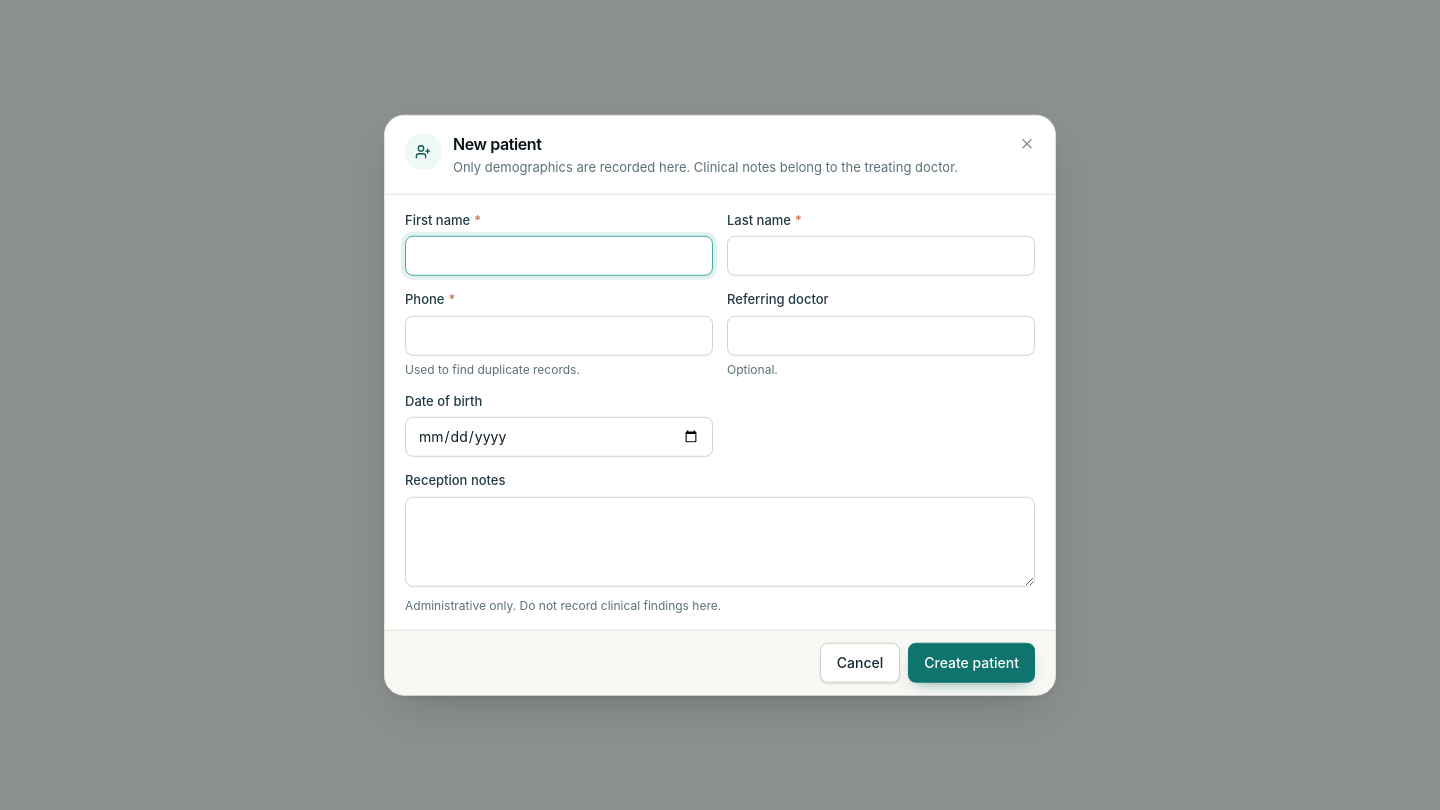
it: PatientDialog — create, validate, duplicates, update › shows the duplicate-phone warning and can acknowledge it
The width and height of the screenshot is (1440, 810).
Later steps or results of the test are not shown.
Step 1. Type "Ada" into the field labelled "First name *" → x=559, y=256, box x1=405 y1=236 x2=713 y2=276
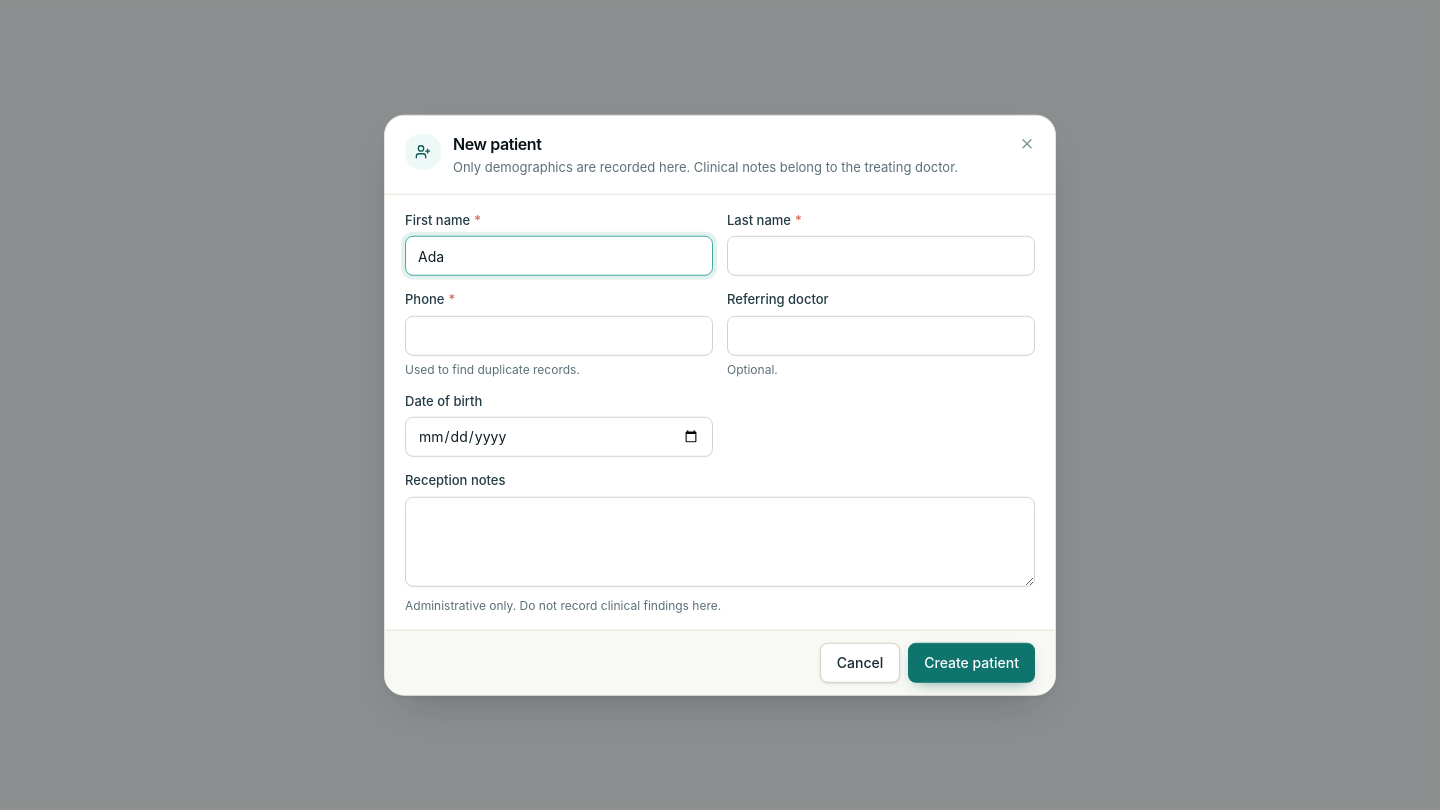
Step 2. Type "Lovelace" into the field labelled "Last name *" → x=881, y=256, box x1=727 y1=236 x2=1035 y2=276
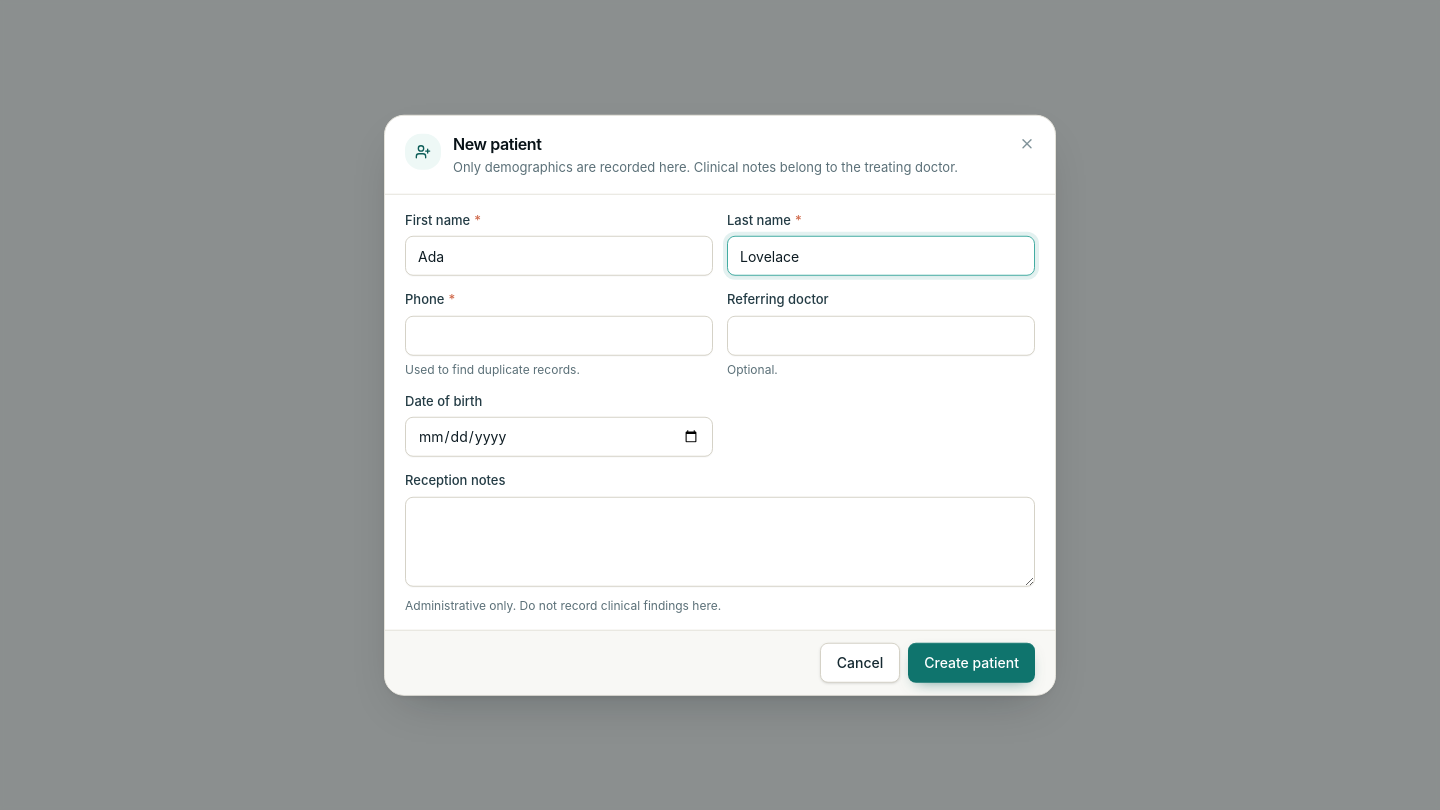
Step 3. Type "5550102" into the field labelled "Phone *" → x=559, y=335, box x1=405 y1=315 x2=713 y2=355
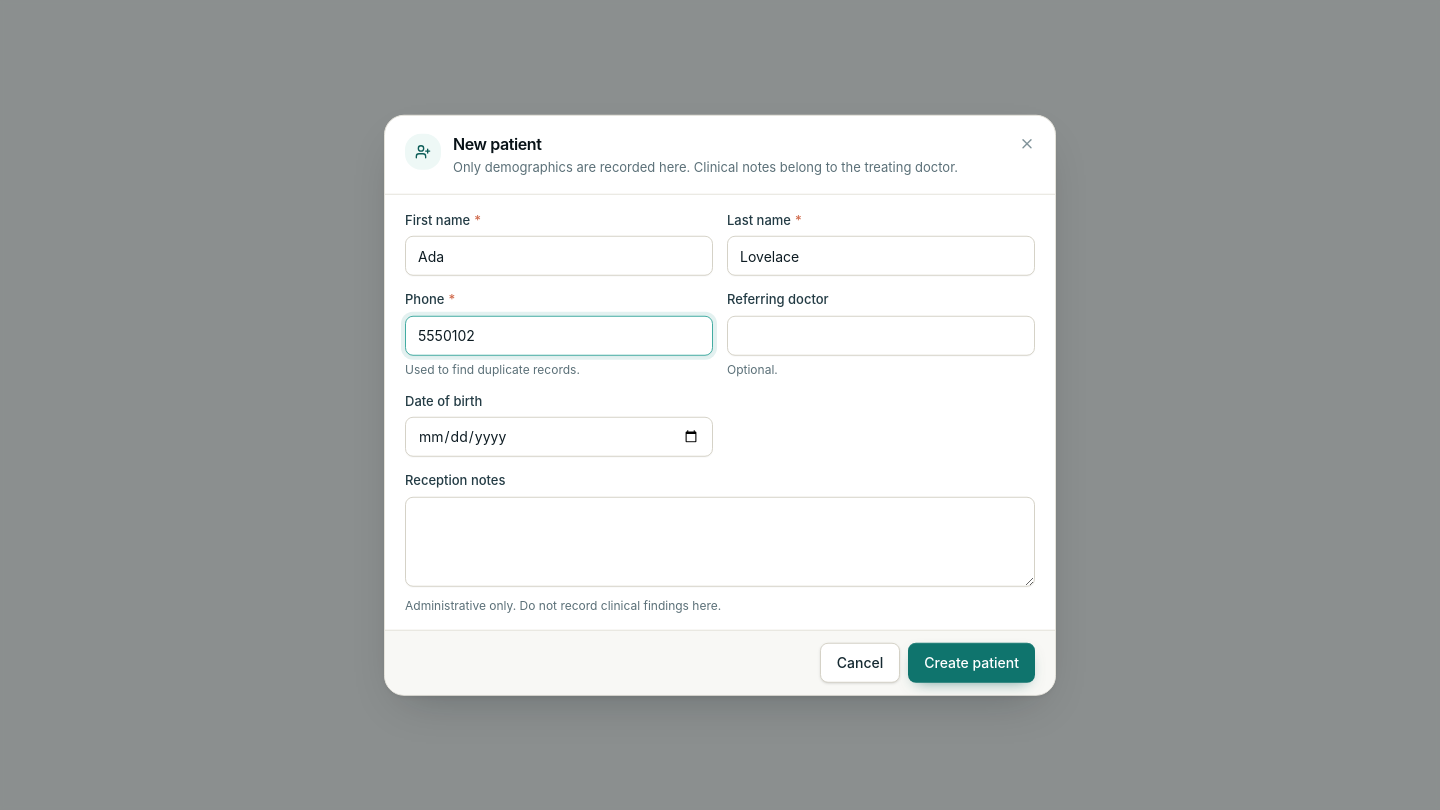
Step 4. Click the button "Create patient" → x=972, y=662, box x1=908 y1=642 x2=1035 y2=682
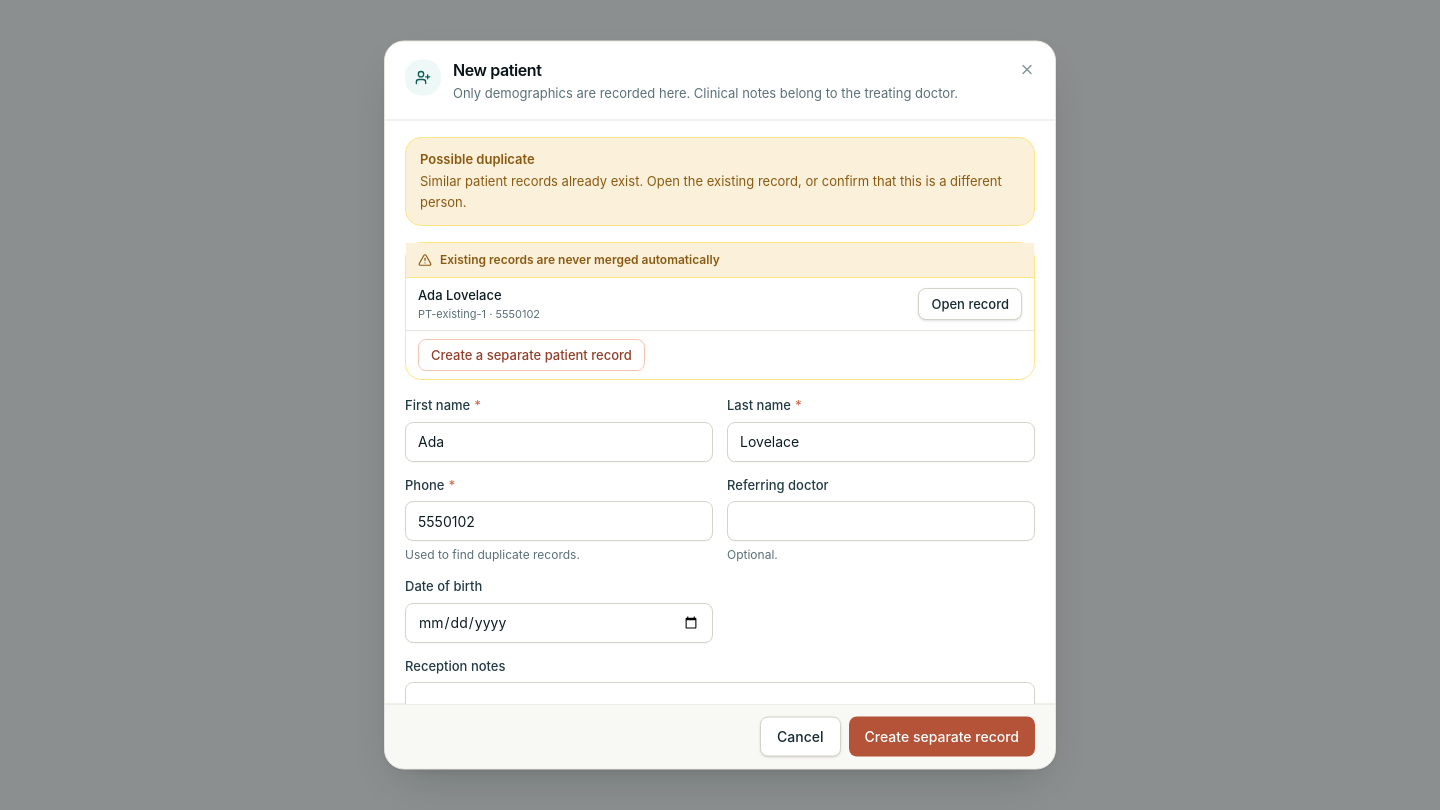
Result: the text "Possible duplicate" is shown at x1=420 y1=150 x2=535 y2=166
Result: the text "Ada Lovelace" is shown at x1=418 y1=287 x2=502 y2=303
Result: the button "Open record" is shown at x1=918 y1=288 x2=1022 y2=320
